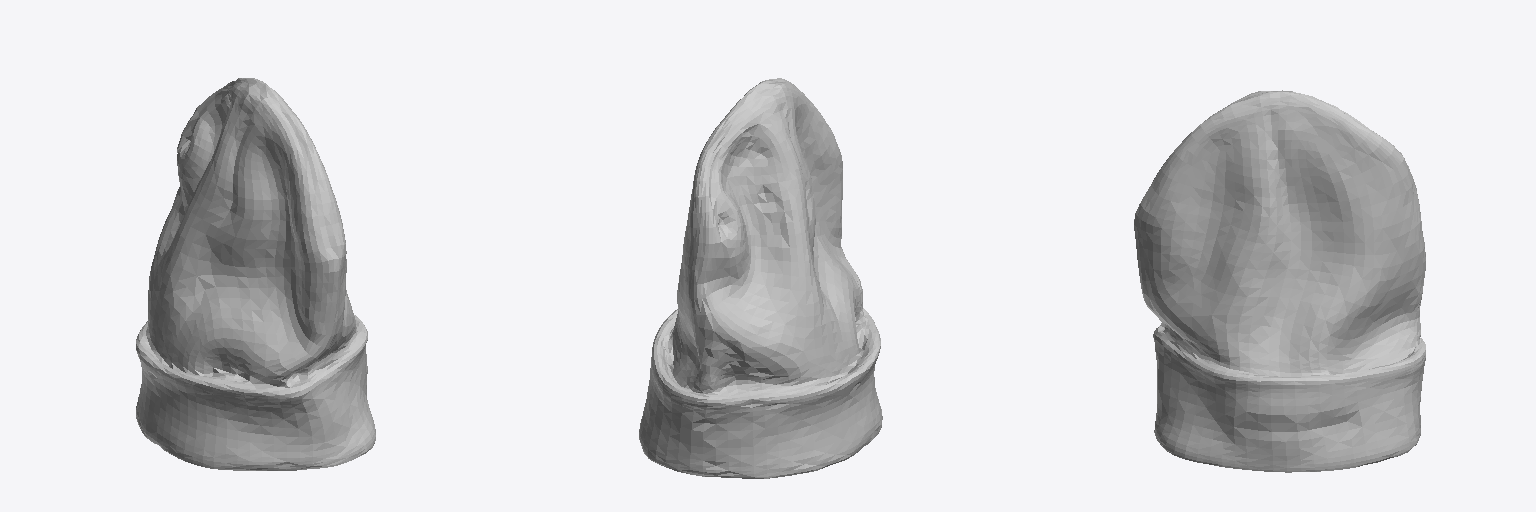
The model's file is 0001_NEW_NOTABLE_ONETEX4_1_Export_01.obj.
3 views of the same model, side by side, from view 1: azimuth 30°, elevation 25°; view 2: azimuth 150°, elevation 25°; view 3: azimuth 270°, elevation 25° (orthographic).
Parts seen in each view (by area): view 1: 0001_NEW_NOTABLE_ONETEX4_1; view 2: 0001_NEW_NOTABLE_ONETEX4_1; view 3: 0001_NEW_NOTABLE_ONETEX4_1.
Boxes of the visible parts, box(x1,y1,x2,y2) form: 0001_NEW_NOTABLE_ONETEX4_1: box(136, 78, 375, 470); 0001_NEW_NOTABLE_ONETEX4_1: box(639, 78, 882, 478); 0001_NEW_NOTABLE_ONETEX4_1: box(1134, 90, 1425, 472).
Bounding box in the file's own units: 1.69 × 2.75 × 2.15.